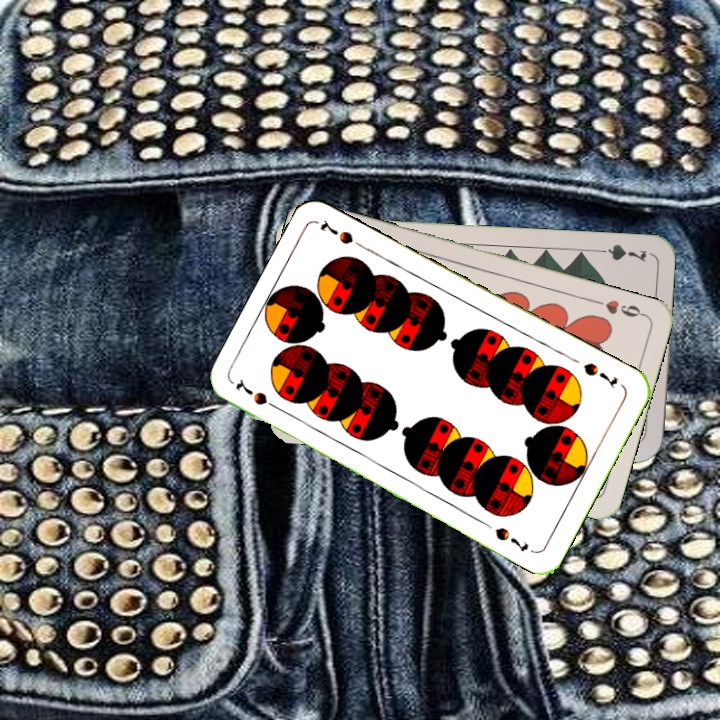G7: (590, 240, 649, 265)
H9: (590, 295, 648, 320)
S7: (231, 376, 285, 414), (579, 358, 621, 392)
